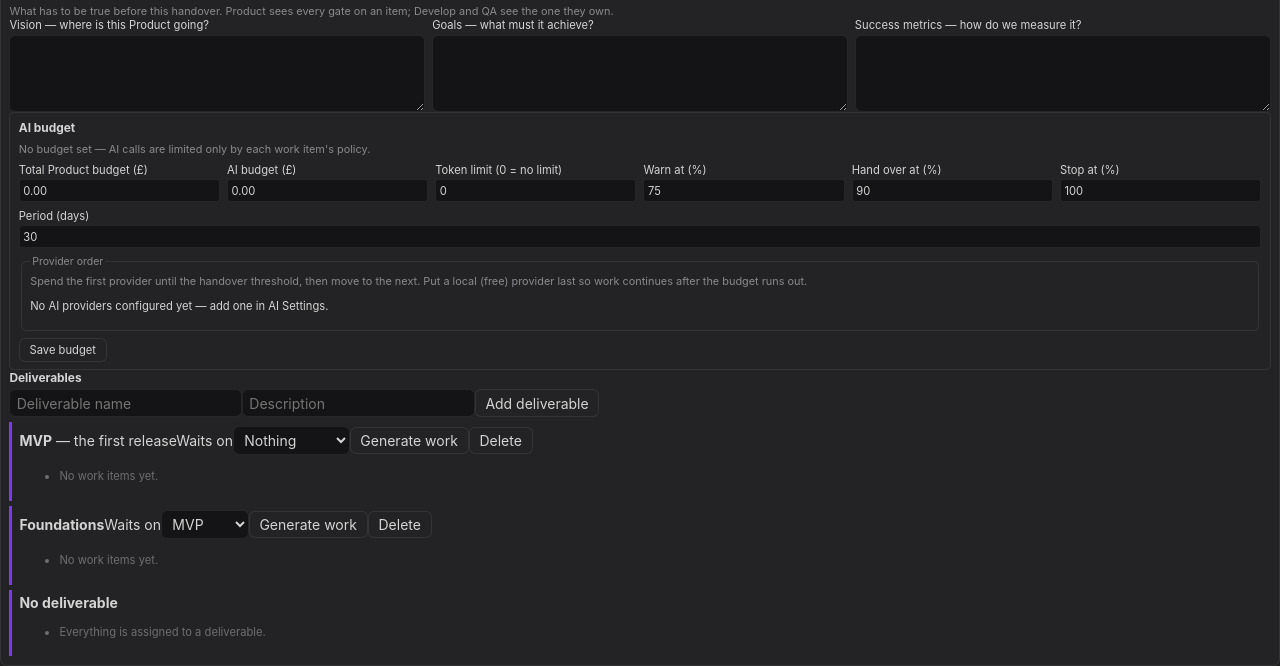
Scenario: ProductStrategy — generating the work for a Deliverable › shows the backend's reason when a dependency would make a loop
This screenshot has width=1280, height=666.
(page scrolled)
Select "Foundations" in the dropdown named "What MVP waits on". click: coordinates (291, 440)
box: [233,426,350,455]
(page scrolled)
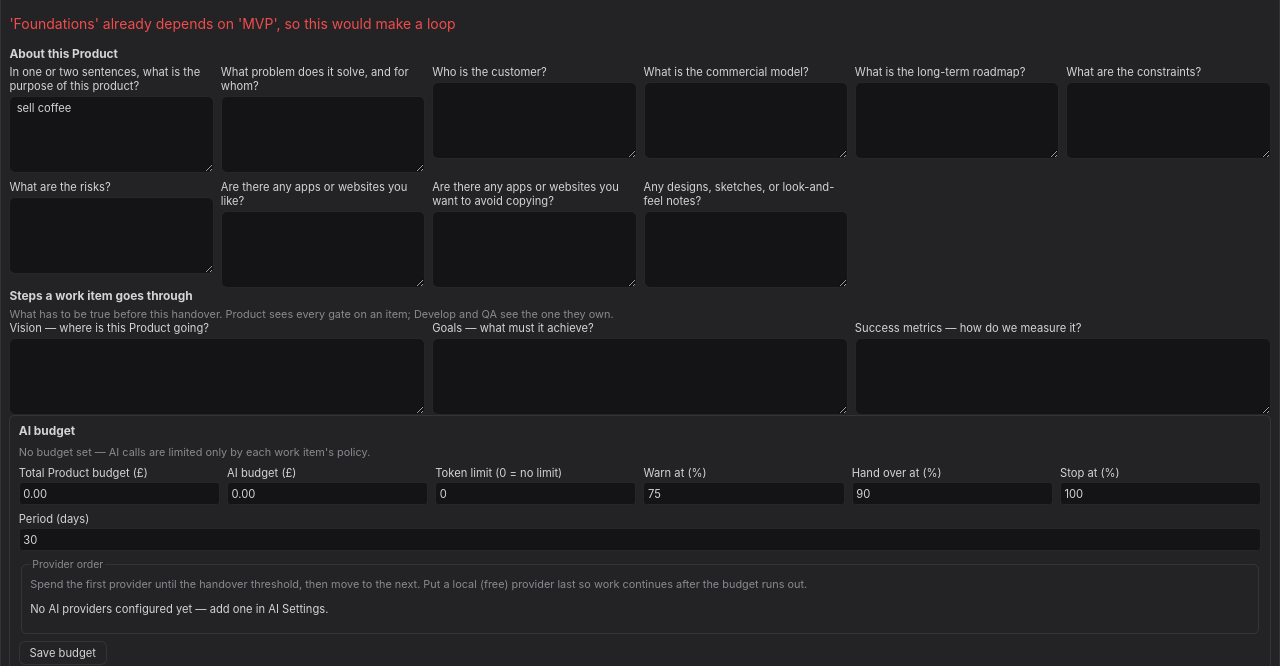
expect the message shows "would make a loop": met, box [9,15,456,32]
